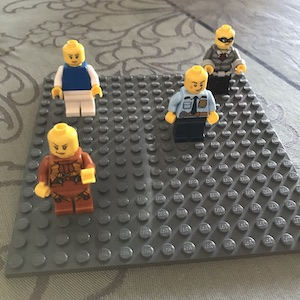Lego: (33, 122, 97, 215), (165, 65, 219, 147), (52, 38, 104, 119), (199, 24, 245, 97)
